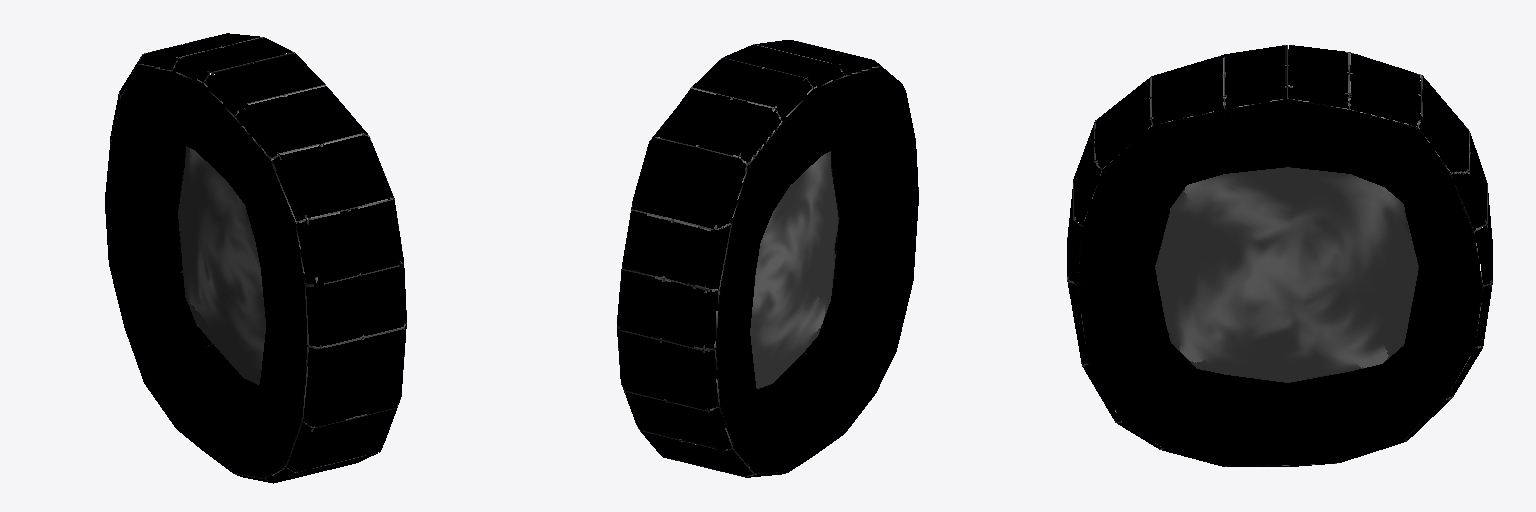
3 views of the same model, side by side, from view 1: azimuth 30°, elevation 25°; view 2: azimuth 150°, elevation 25°; view 3: azimuth 270°, elevation 25° (orthographic).
Parts seen in each view (by area): view 1: Cube; view 2: Cube; view 3: Cube.
Boxes of the visible parts, x1,y1,x2,y2 form: Cube: [105, 33, 406, 483]; Cube: [617, 40, 918, 477]; Cube: [1067, 45, 1492, 466].
Bounding box in the file's own units: 0.9569 × 3.04 × 3.07.
1 materials, 1 textured.